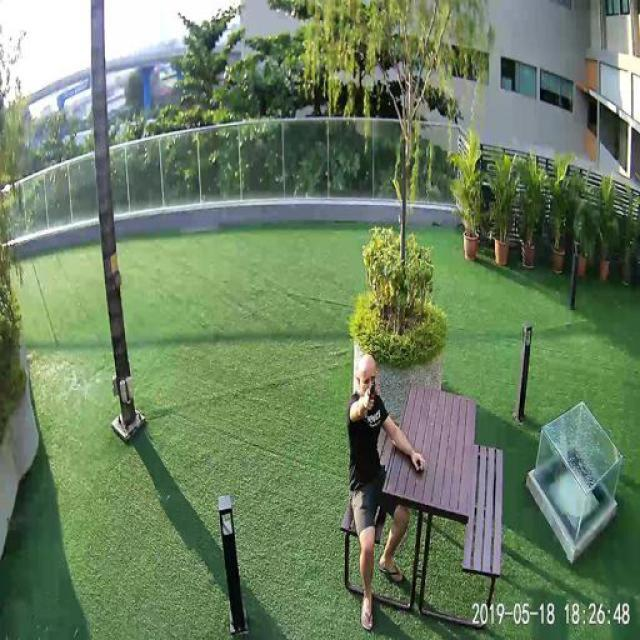weapon: (365, 380, 379, 406)
